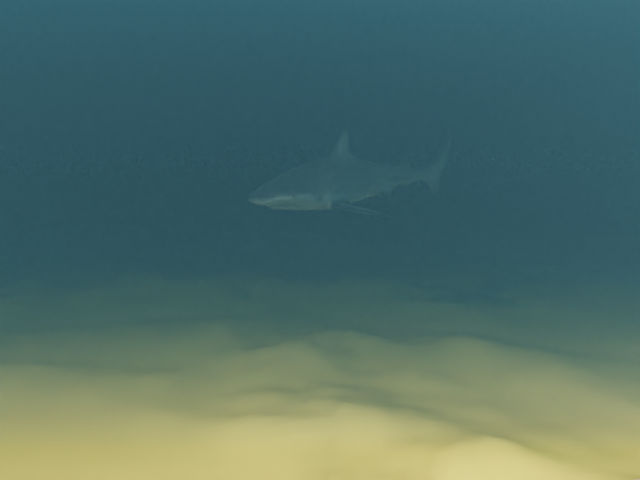Carribean Shark.001: (248, 126, 451, 218)
